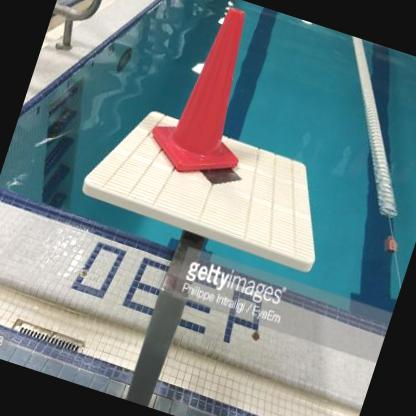cone: (141, 0, 286, 188)
